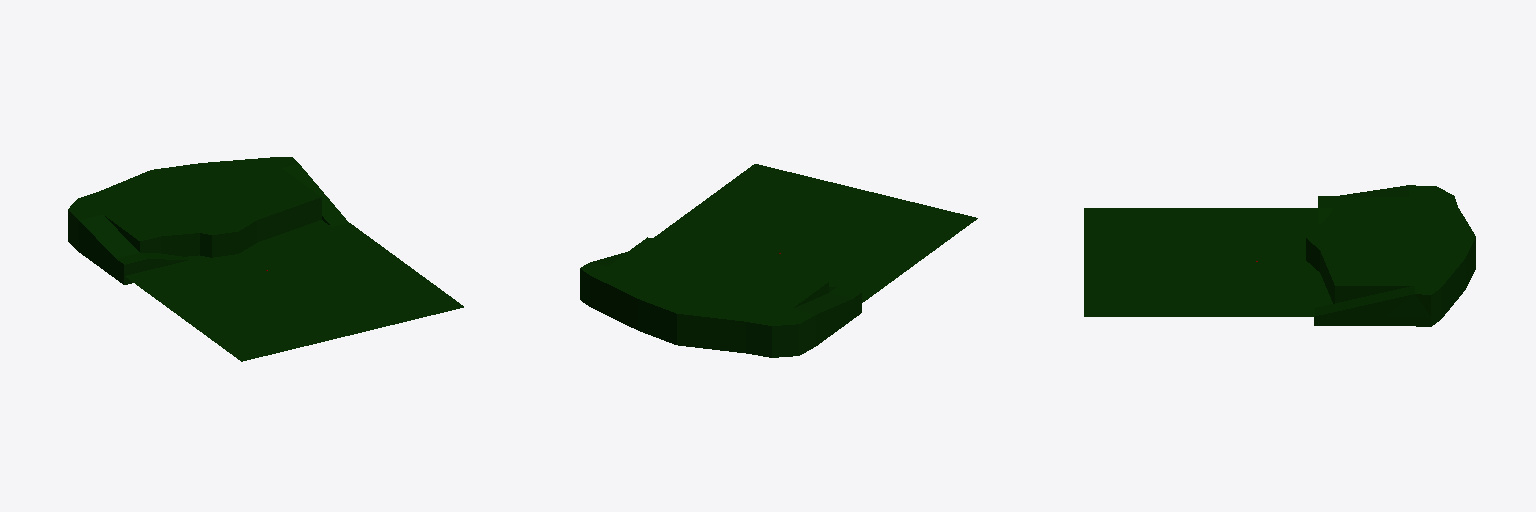
File: HomeLevel_01.obj
The picture shows the model from 3 angles: view 1: azimuth 30°, elevation 25°; view 2: azimuth 150°, elevation 25°; view 3: azimuth 270°, elevation 25°; orthographic projection.
Parts seen in each view (by area): view 1: Field, Home_Rock; view 2: Home_Rock, Field; view 3: Field, Home_Rock.
Part boxes in pixels (left/top/right/bottom): Field: left=125, top=220, right=463, bottom=361; Home_Rock: left=68, top=157, right=348, bottom=284; Home_Rock: left=580, top=237, right=861, bottom=357; Field: left=654, top=164, right=977, bottom=302; Field: left=1084, top=208, right=1332, bottom=316; Home_Rock: left=1306, top=185, right=1475, bottom=326.
Bounding box in the file's own units: 403 × 54.36 × 608.